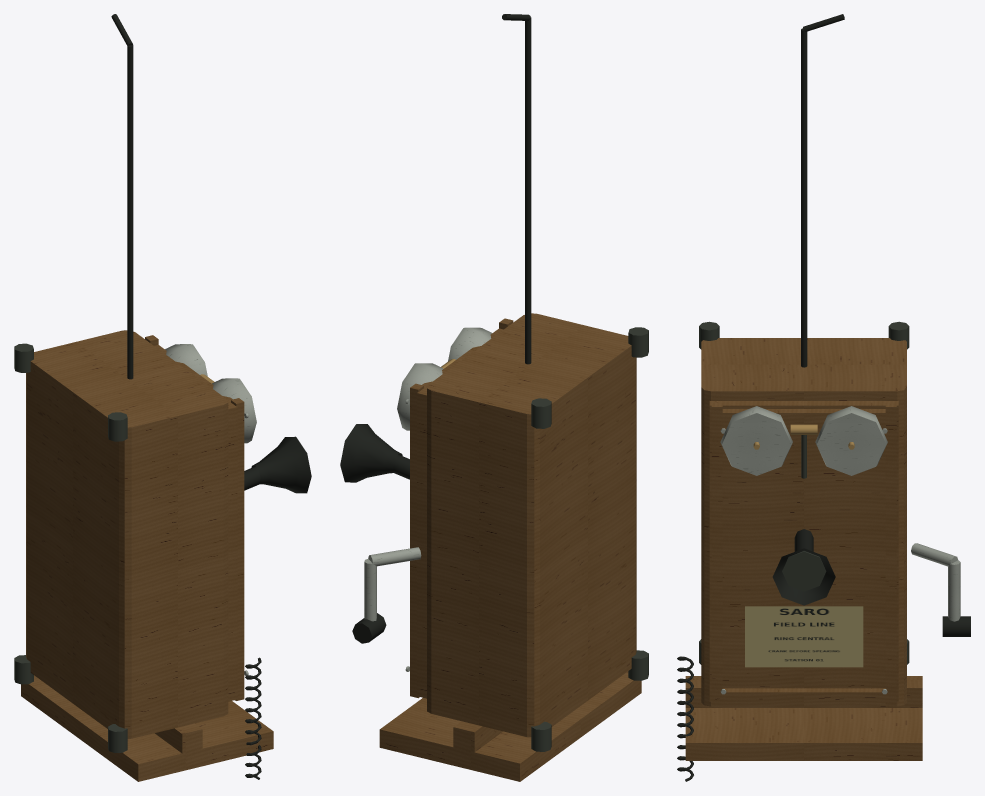
File: SM_FieldKit_FieldPhone_LOD1.glb
3 views of the same model, side by side, from view 1: azimuth 30°, elevation 25°; view 2: azimuth 150°, elevation 25°; view 3: azimuth 270°, elevation 25° (orthographic). The views are drawn at different scales.
Visible parts, largest first — view 1: SM_FieldKit_FieldPhone_LOD1; view 2: SM_FieldKit_FieldPhone_LOD1; view 3: SM_FieldKit_FieldPhone_LOD1.
Part boxes in pixels (x1,y1,x2,y2): SM_FieldKit_FieldPhone_LOD1: (14,14,311,781); SM_FieldKit_FieldPhone_LOD1: (340,14,648,781); SM_FieldKit_FieldPhone_LOD1: (677,14,970,781).
Size of the model in its own units: 0.346 by 1.03 by 0.3718.
Materials: 6 (3 with a texture image).
